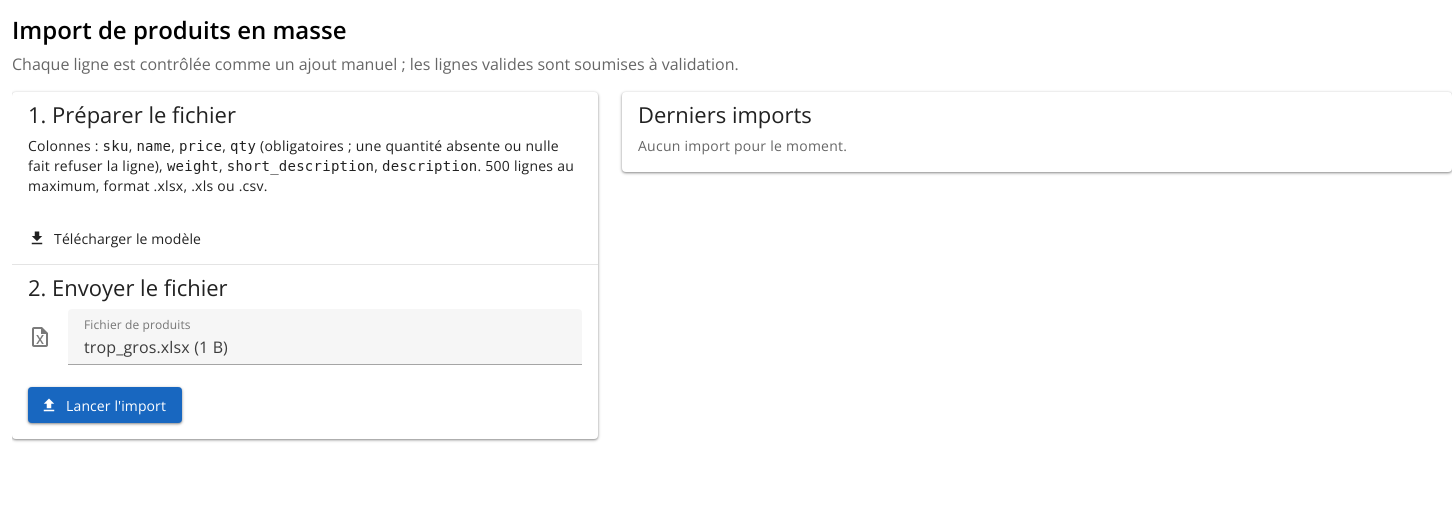
Test case: Import de produits en masse › affiche le refus de l'API
Click the button "Lancer l'import": [105, 405] box [28, 387, 182, 423]
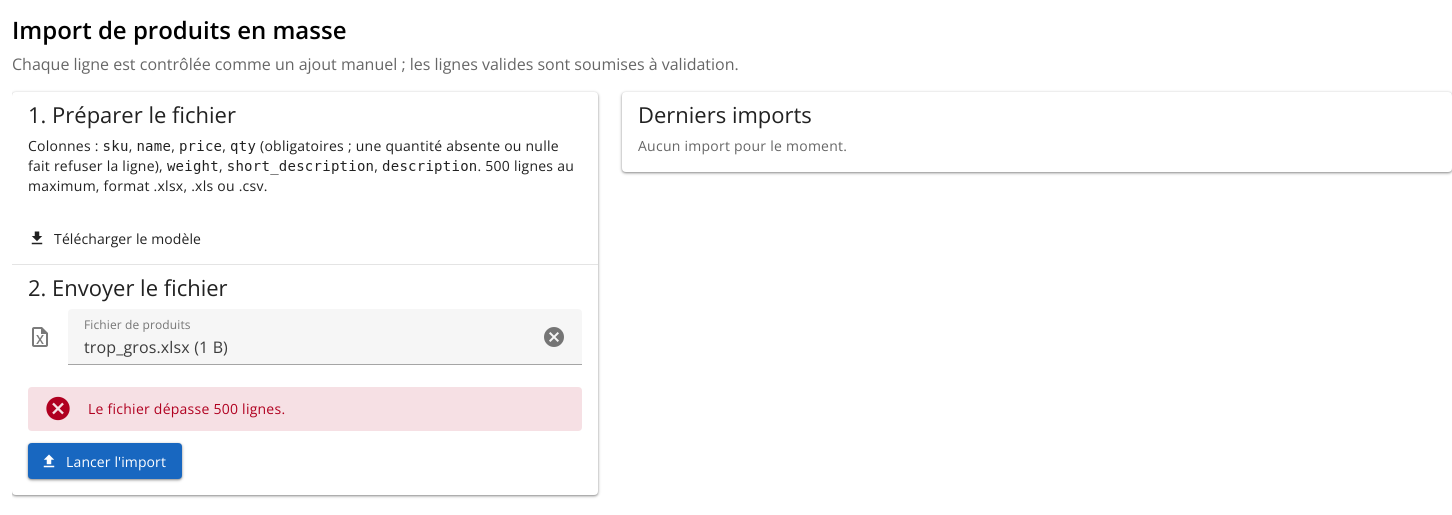
expect the message "Le fichier dépasse 500 lignes." is shown: met, box [28, 387, 582, 431]
